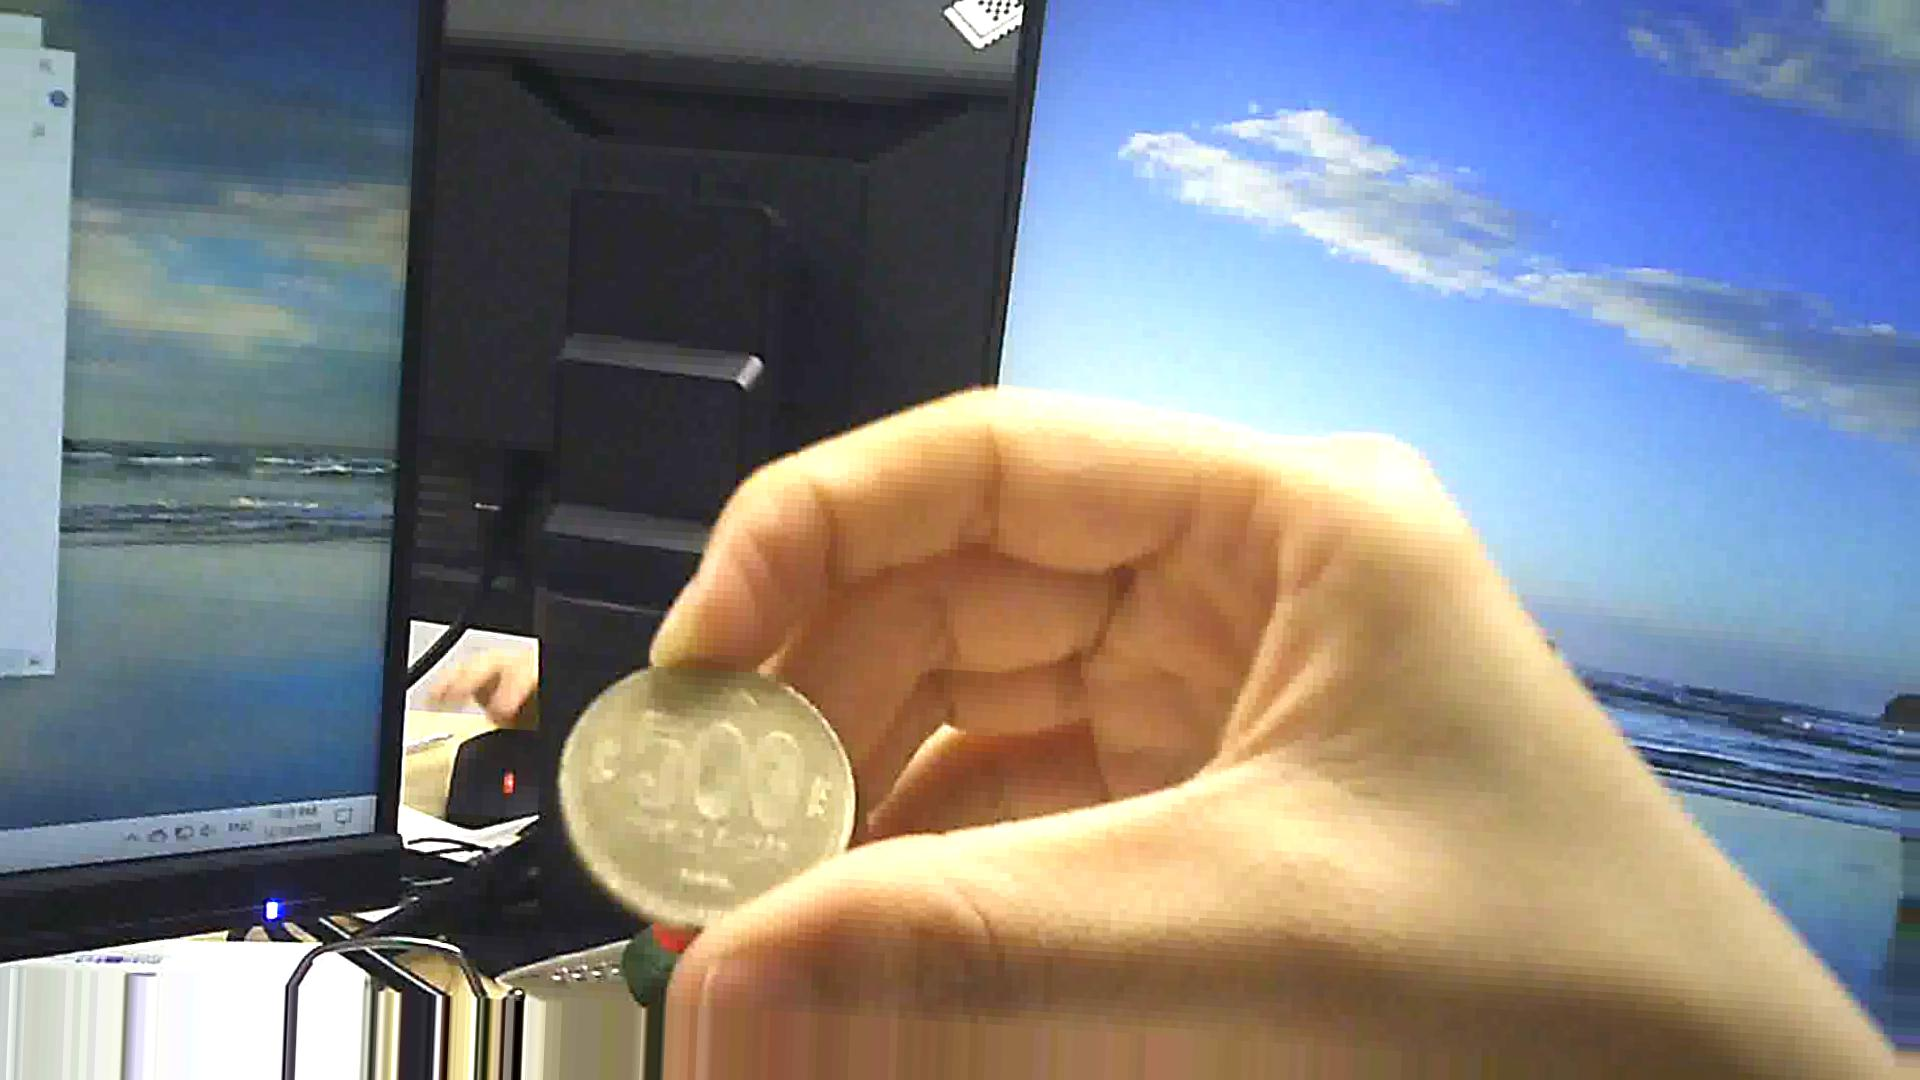500 Yen: (555, 654, 847, 924)
